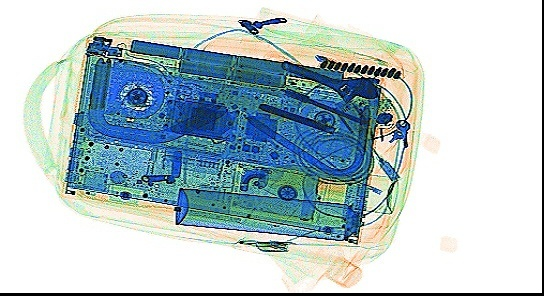pressure: (172, 185, 391, 244), (254, 160, 399, 216)
